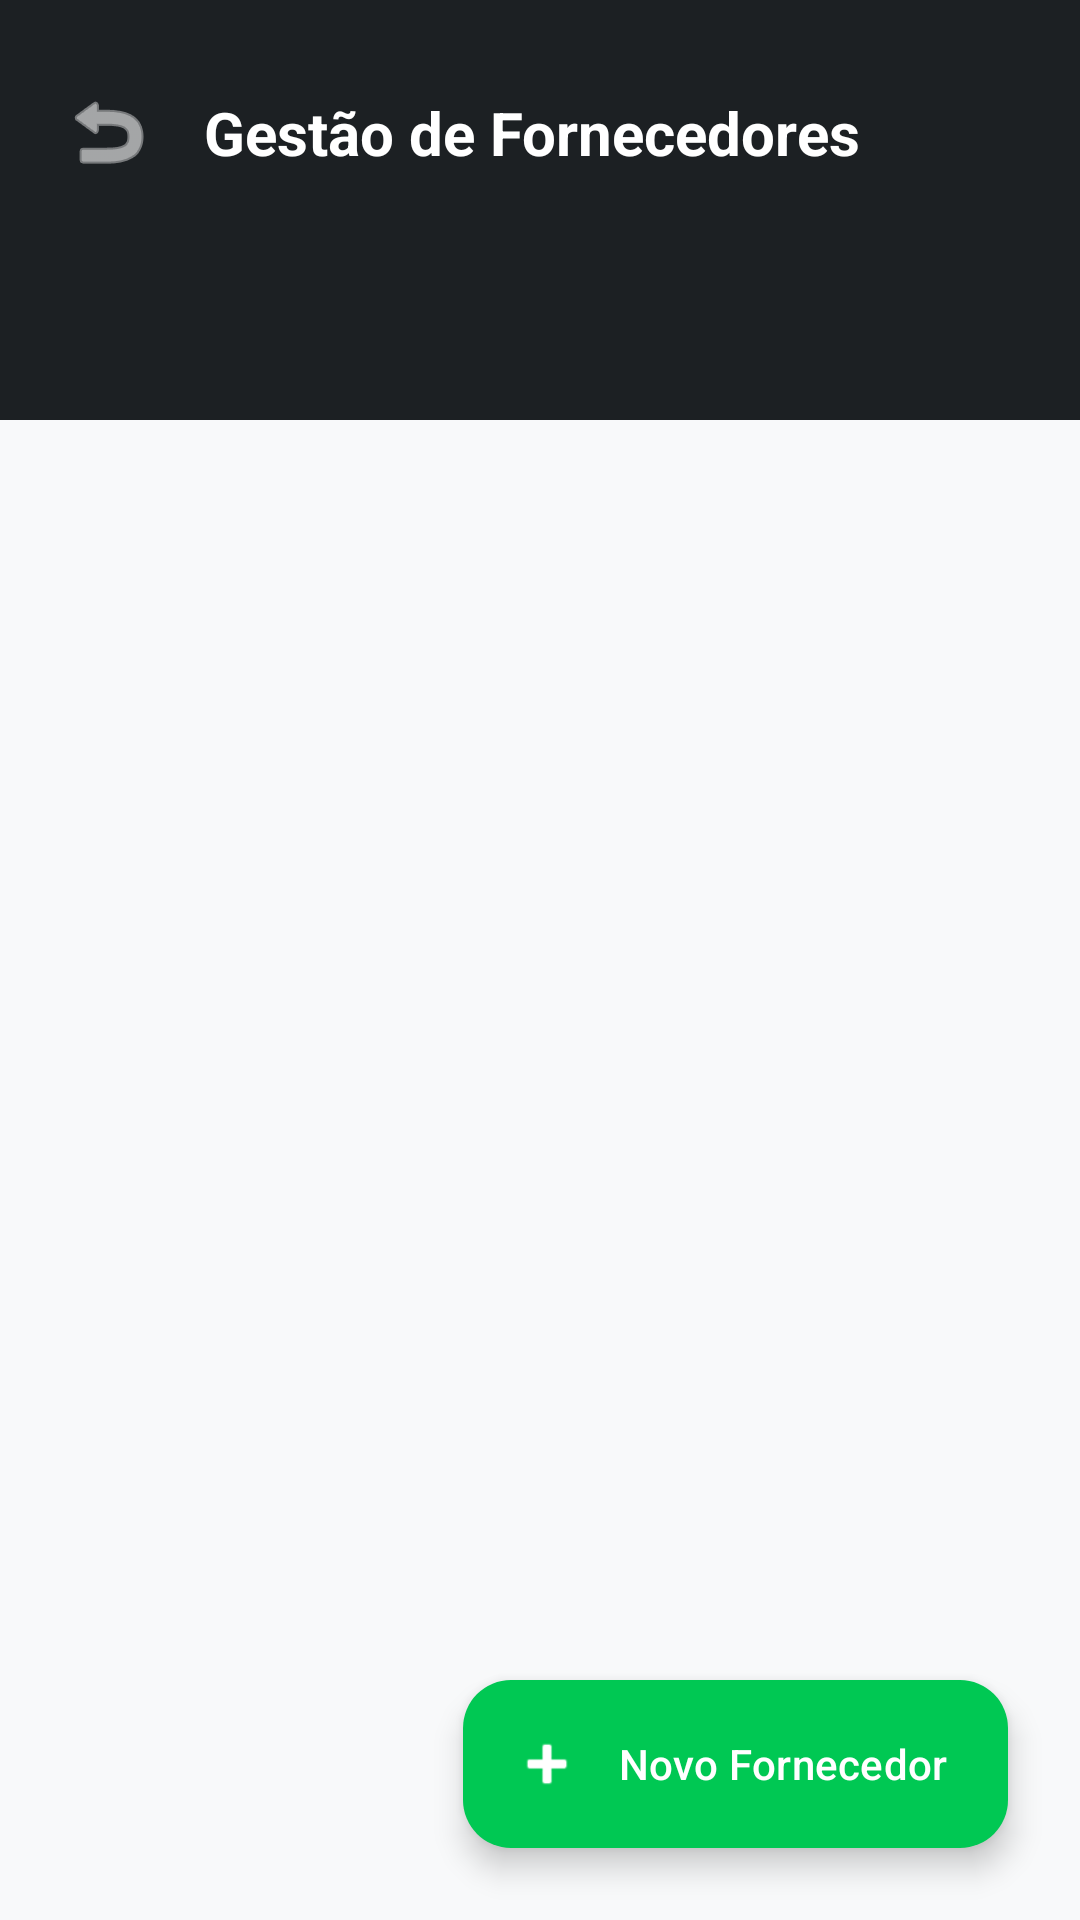

Named icons in this screenshot (1080×1920) and their centers, [x,y]:
Voltar: [109,132]
